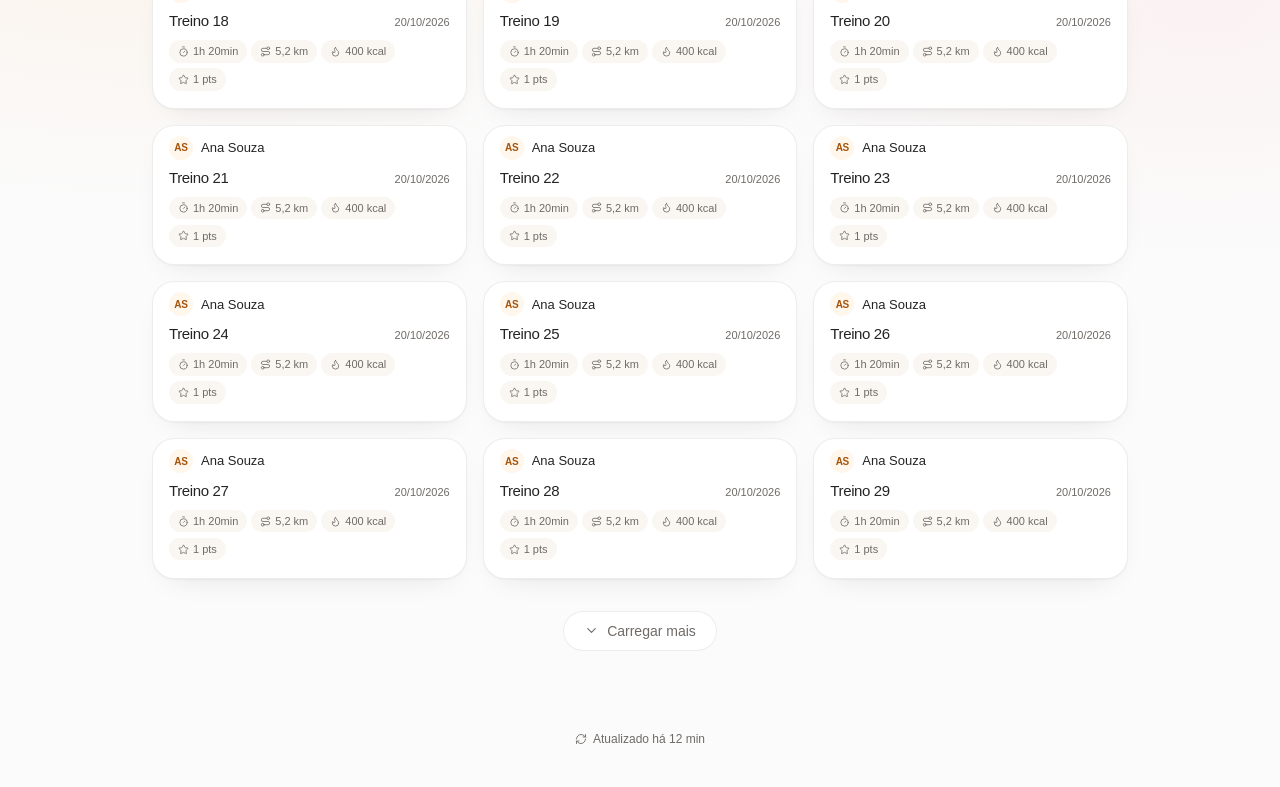
Scenario: FeedTab › loads more pages
(page scrolled)
Click the button "Carregar mais" at (640, 631), box [563,611,717,651]
(page scrolled)
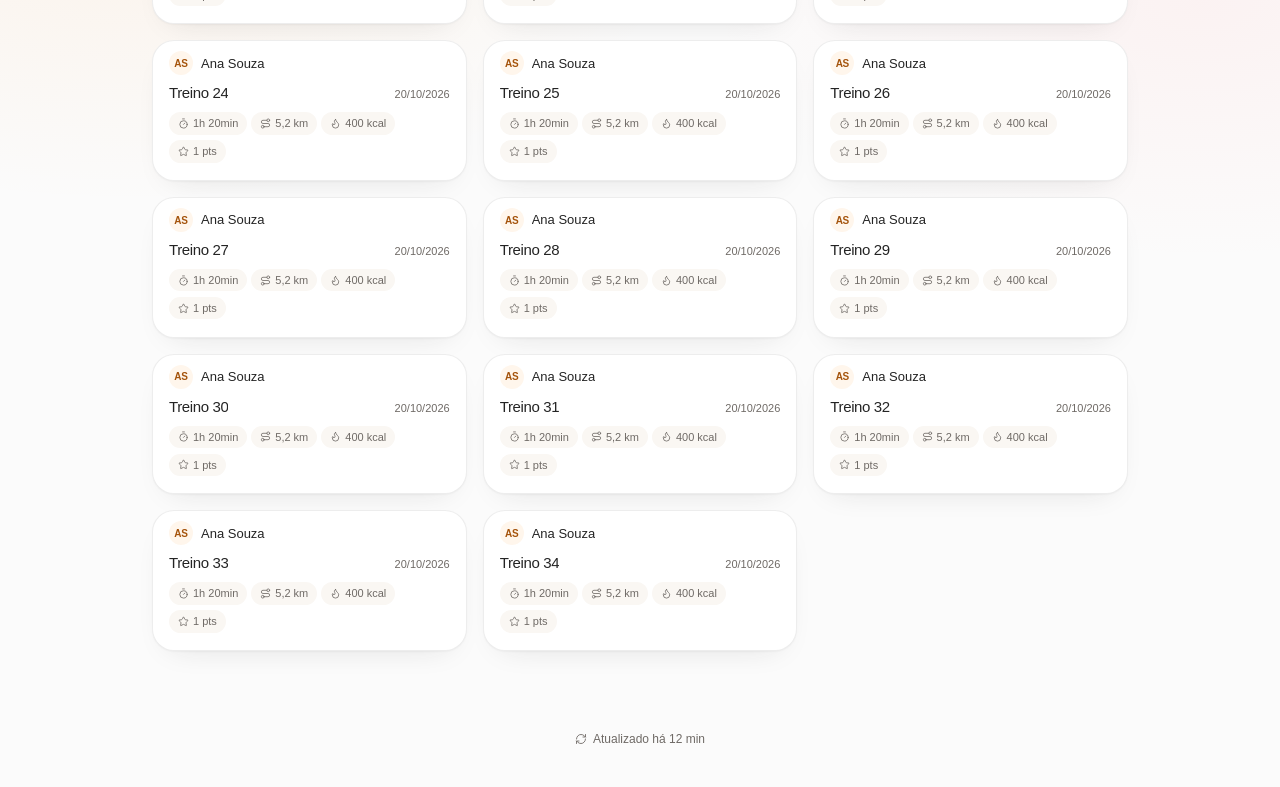
Expected: the heading "Treino 34" is shown, [500,553,559,574]
Expected: the button "Carregar mais" is gone
